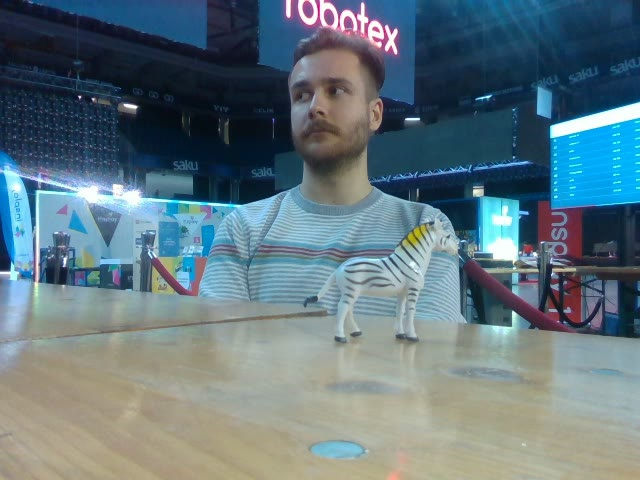toy: (306, 217, 459, 341)
